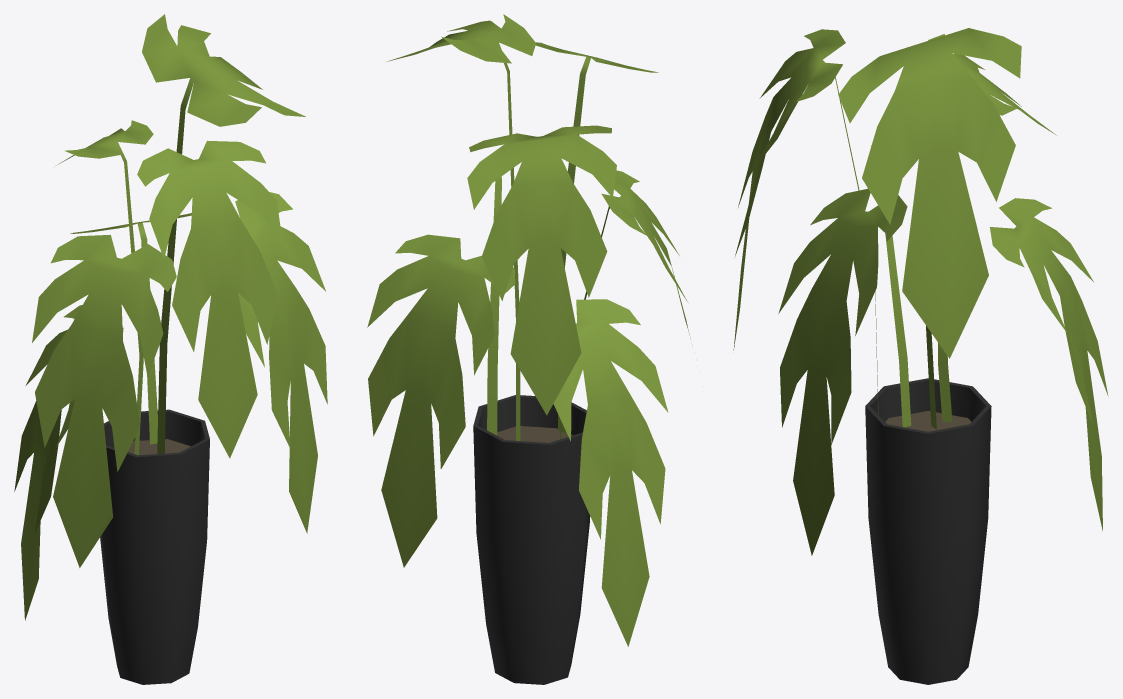
File: furn-plant-medium.glb
3 renders of one model, left to right at view 1: azimuth 30°, elevation 25°; view 2: azimuth 150°, elevation 25°; view 3: azimuth 270°, elevation 25°, orthographic. The views are drawn at different scales.
Parts seen in each view (by area): view 1: Houseplant_7; view 2: Houseplant_7; view 3: Houseplant_7.
Part boxes in pixels (bbox=[...]): Houseplant_7: bbox=[14, 14, 327, 684]; Houseplant_7: bbox=[367, 14, 690, 684]; Houseplant_7: bbox=[733, 28, 1108, 684].
Bounding box in the file's own units: 0.4 × 0.8 × 0.4.
